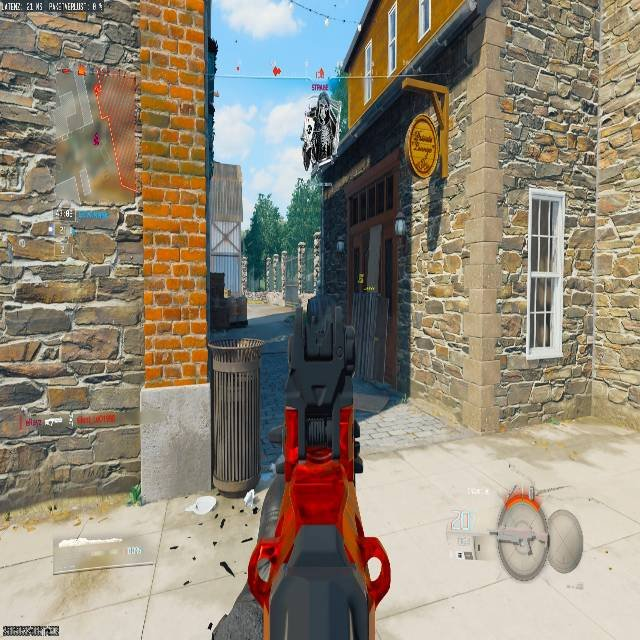player: (302, 90, 340, 175)
